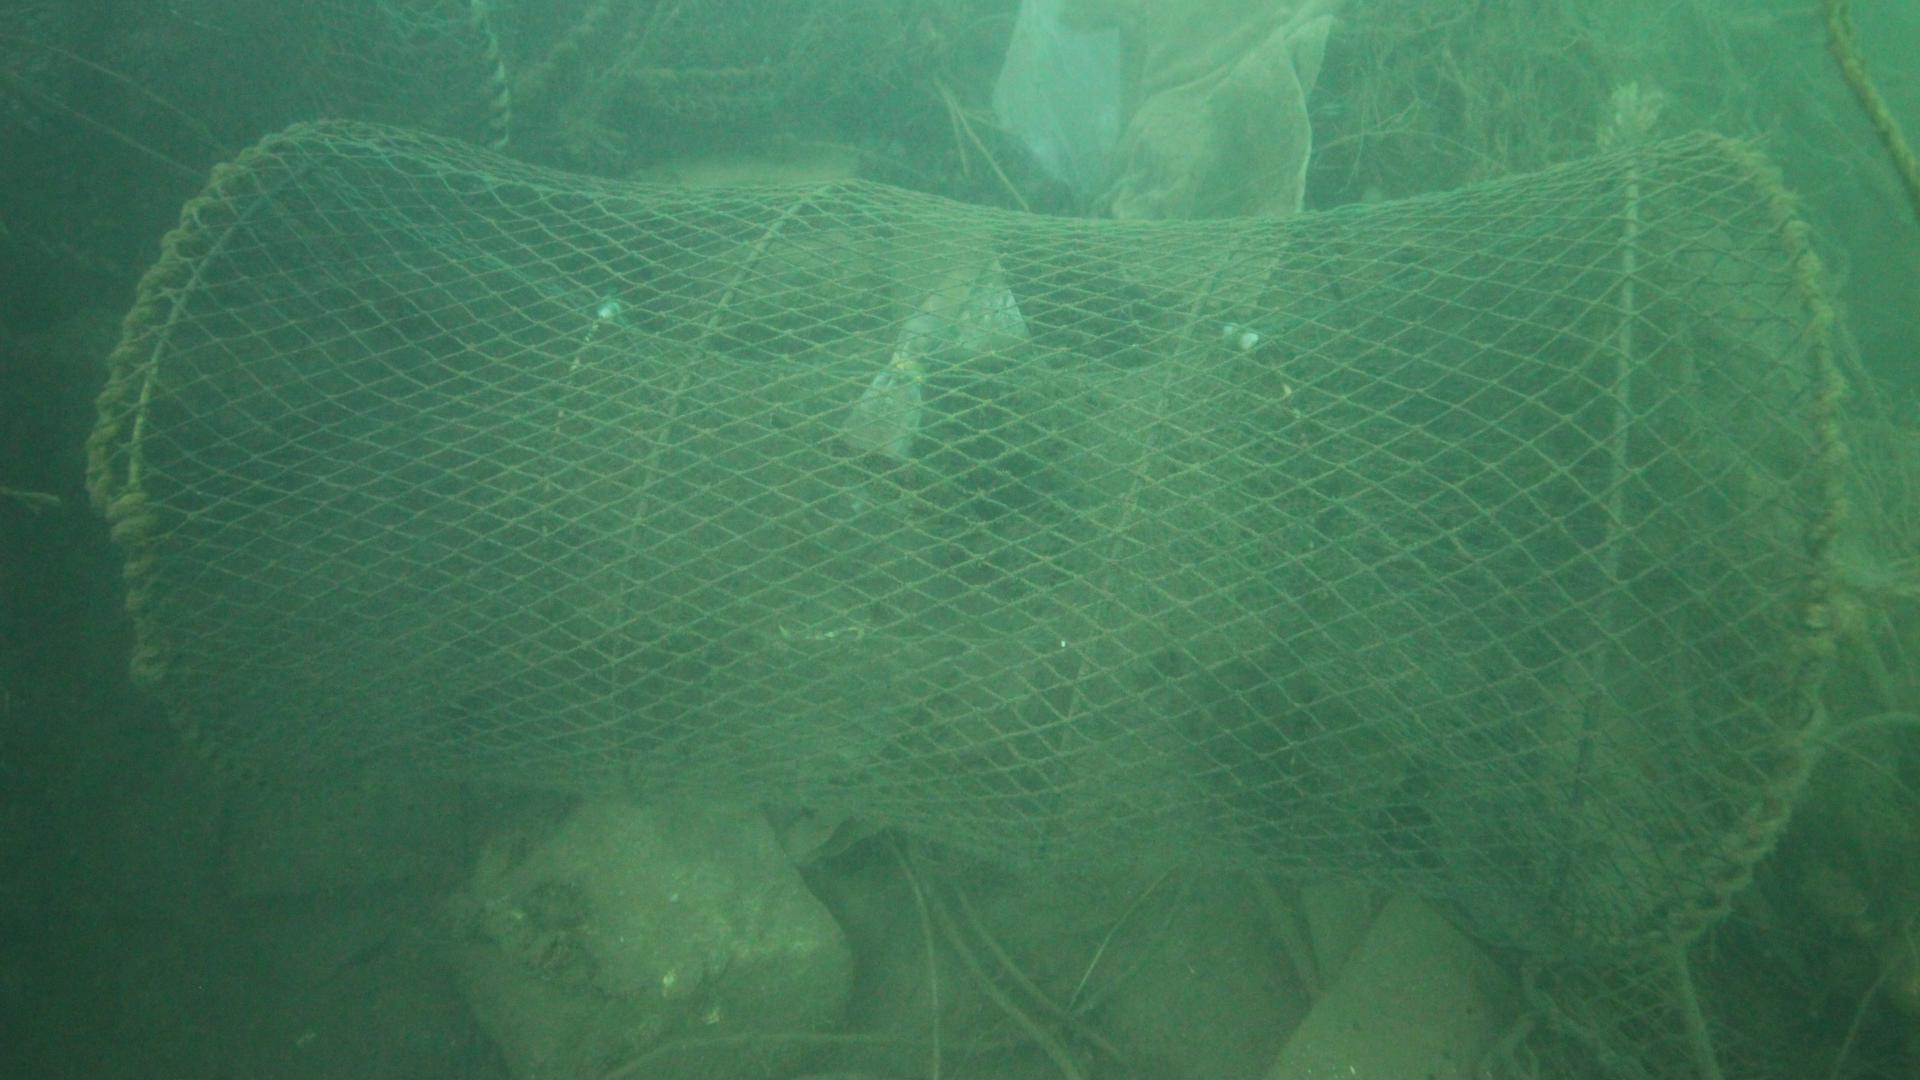spring fish trap: (82, 115, 1846, 967)
